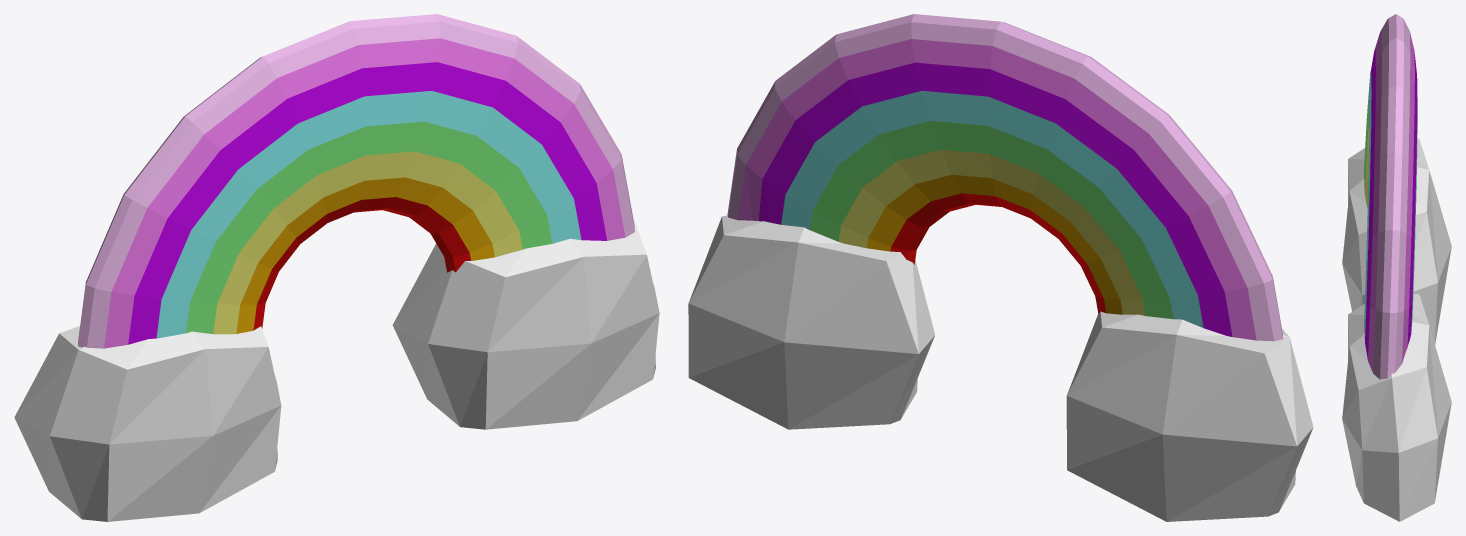
The model's file is token.fbx.
3 renders of one model, left to right at view 1: azimuth 30°, elevation 25°; view 2: azimuth 150°, elevation 25°; view 3: azimuth 270°, elevation 25°, orthographic. The views are drawn at different scales.
Parts seen in each view (by area): view 1: pTorus2; view 2: pTorus2; view 3: pTorus2.
Boxes of the visible parts, x1=… form: pTorus2: x1=14, y1=14, x2=659, y2=521; pTorus2: x1=688, y1=14, x2=1313, y2=521; pTorus2: x1=1342, y1=14, x2=1451, y2=521.
Size of the model in its own units: 0.7605 by 0.5215 by 0.1373.
